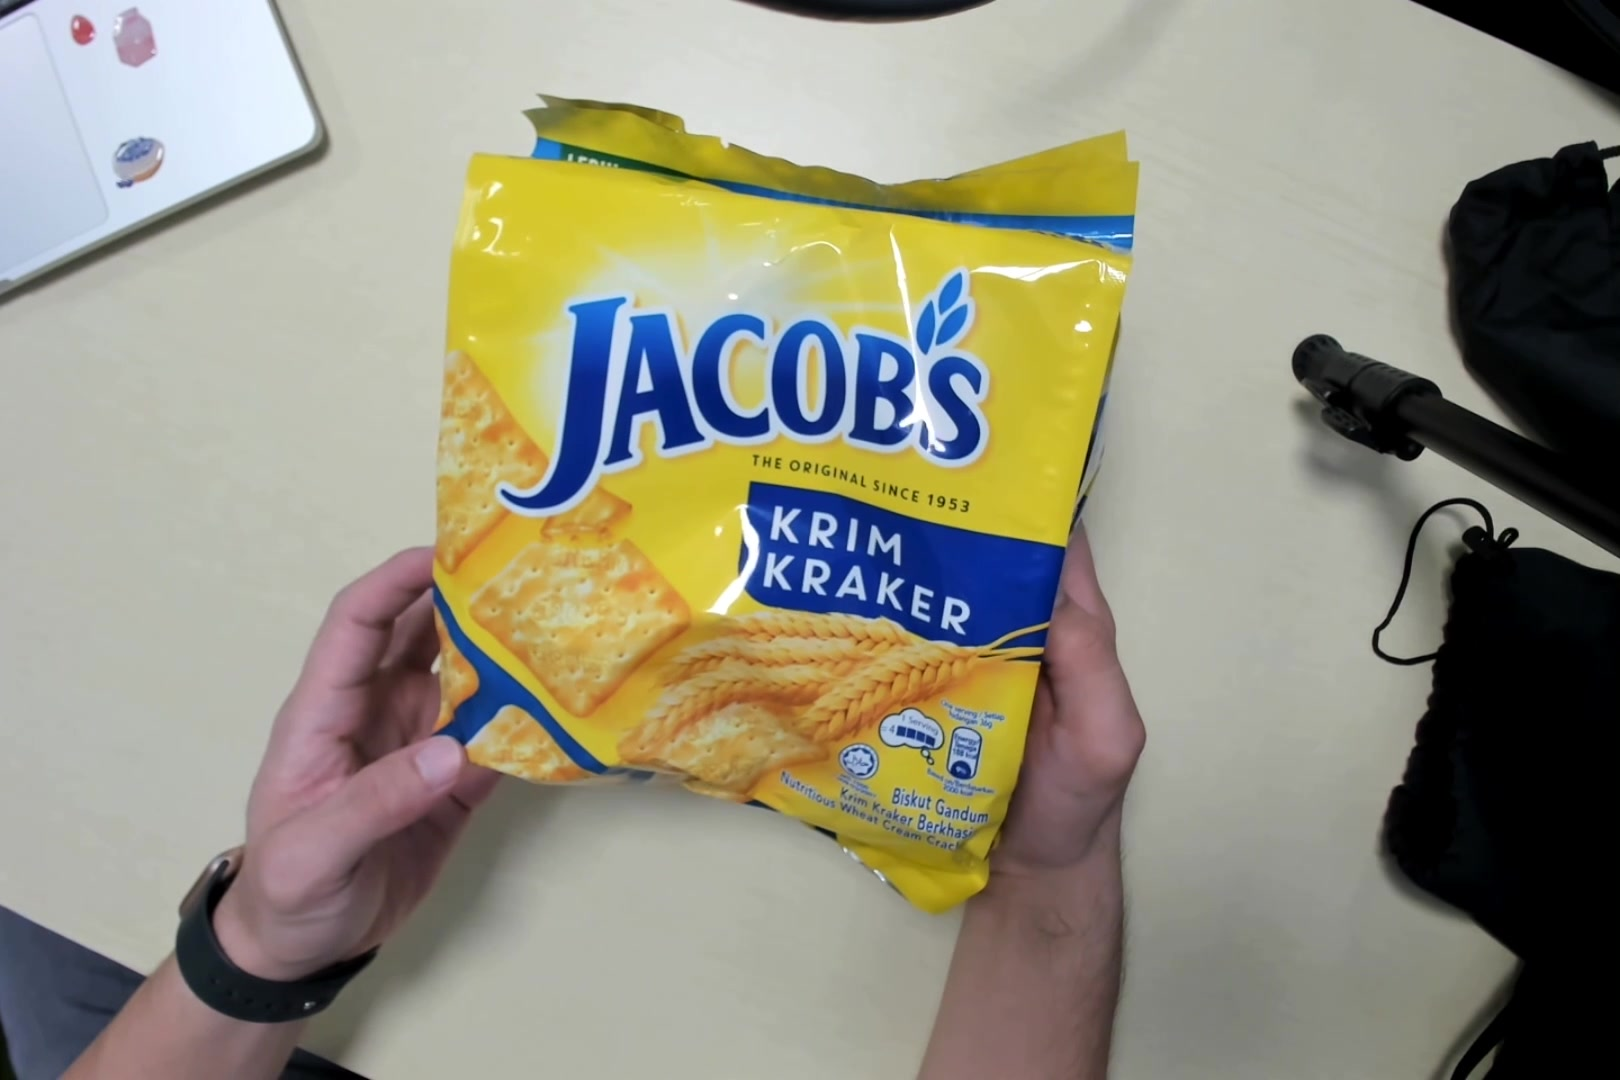BiscuitCrackersCookies_500-599g_Halal_NonHealthy: (430, 80, 1146, 880)
